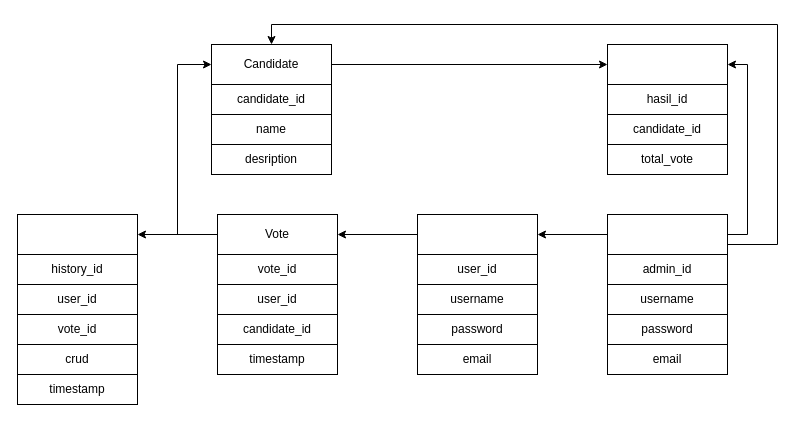
Image size: 803x422. Some labels were removed from this diagram. The centre of each missing label's shape, as x and y in pixels:
"Admin" belongs at point 667,234.
"Hasil" belongs at point 667,64.
"User" belongs at point 477,234.
"Vote History" belongs at point 77,234.
